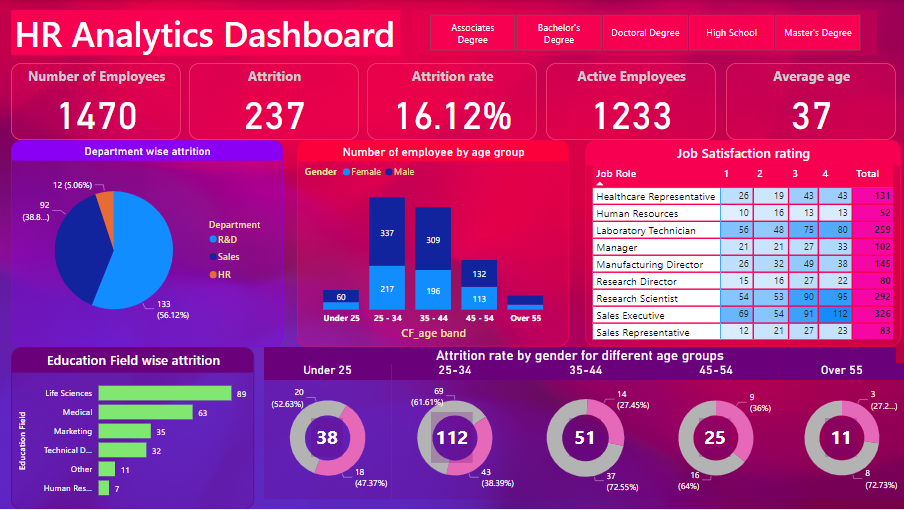

Layout of this report page (visuals, bound fields, positions):
{"tool":"powerbi","page":{"name":"Page 1","canvas":[1280,720],"ordinal":0},"visuals":[{"type":"card","title":"Number of Employees","fields":{"Values":["Sum(HR data.Employee Count)"]},"box":[15.1,89,240.2,109.2],"z":0},{"type":"card","title":"Attrition","fields":{"Values":["Sum(HR data.Attrition count)"]},"box":[267.1,89,240.2,109.2],"z":1000},{"type":"card","title":"Attrition rate","fields":{"Values":["HR data.Attrition rate"]},"box":[519.1,89,240.2,109.2],"z":2000},{"type":"card","title":"Active Employees","fields":{"Values":["HR data.Active Employees"]},"box":[772.7,89,240.2,109.2],"z":3000},{"type":"card","title":"Average age","fields":{"Values":["Avg(HR data.Age)"]},"box":[1026.4,89,240.2,109.2],"z":4000},{"type":"pieChart","title":"Department wise attrition","fields":{"Category":["HR data.Department"],"Y":["Sum(HR data.Attrition count)"]},"box":[15.1,198.2,384.7,292.3],"z":5000},{"type":"columnChart","title":"Number of employee by age group","fields":{"Category":["HR data.CF_age band"],"Y":["Sum(HR data.Employee Count)"],"Series":["HR data.Gender"]},"box":[419.9,198.2,384.7,292.3],"z":6000},{"type":"pivotTable","title":"Job Satisfaction rating","fields":{"Rows":["HR data.Job Role"],"Columns":["HR data.Job Satisfaction"],"Values":["Sum(HR data.Employee Count)"]},"box":[828.1,198.2,446.8,292.3],"z":7000},{"type":"barChart","title":"Education Field wise attrition","fields":{"Category":["HR data.Education Field"],"Y":["Sum(HR data.Attrition count)"]},"box":[15.1,490.5,344.4,230.1],"z":7001},{"type":"donutChart","title":"Under 25","fields":{"Category":["HR data.Gender"],"Y":["Sum(HR data.Attrition count)"],"Series":["HR data.CF_age band"]},"box":[372.9,514,179.7,193.2],"z":7002},{"type":"textbox","title":"Attrition rate by gender for different age groups","box":[372.9,490.5,893.6,23.5],"z":7003},{"type":"donutChart","title":"25-34","fields":{"Category":["HR data.Gender"],"Y":["Sum(HR data.Attrition count)"],"Series":["HR data.CF_age band"]},"box":[554.3,514,178.1,193.2],"z":7005},{"type":"donutChart","title":"35-44","fields":{"Category":["HR data.Gender"],"Y":["Sum(HR data.Attrition count)"],"Series":["HR data.CF_age band"]},"box":[732.4,514,191.5,193.2],"z":7006},{"type":"donutChart","title":"45-54","fields":{"Category":["HR data.Gender"],"Y":["Sum(HR data.Attrition count)"],"Series":["HR data.CF_age band"]},"box":[923.9,514,178.1,193.2],"z":7007},{"type":"donutChart","title":"Over 55","fields":{"Category":["HR data.Gender"],"Y":["Sum(HR data.Attrition count)"],"Series":["HR data.CF_age band"]},"box":[1101.9,514,178.1,193.2],"z":7008},{"type":"card","fields":{"Values":["Sum(HR data.Attrition count)"]},"box":[440.1,591.3,45.4,55.4],"z":7009},{"type":"card","fields":{"Values":["Sum(HR data.Attrition count)"]},"box":[1167.5,591.3,45.4,55.4],"z":7010},{"type":"card","fields":{"Values":["Sum(HR data.Attrition count)"]},"box":[989.4,591.3,45.4,55.4],"z":7011},{"type":"card","fields":{"Values":["Sum(HR data.Attrition count)"]},"box":[804.6,591.3,45.4,55.4],"z":7012},{"type":"card","fields":{"Values":["Sum(HR data.Attrition count)"]},"box":[609.8,582.9,58.8,72.2],"z":7013},{"type":"textbox","title":"HR Analytics Dashboard","box":[15.1,13.4,551,63.8],"z":7014},{"type":"slicer","fields":{"Values":["HR data.Education"]},"box":[582.9,13.4,658.5,63.8],"z":7015}]}

Visuals, with their boxes in screenshot pixels (x1, y1, x2, y2), scaled from the page's 1280x720 canvas onto the 904x510 screenshot:
"Number of Employees" card: [x1=11, y1=63, x2=180, y2=140]
"Attrition" card: [x1=189, y1=63, x2=358, y2=140]
"Attrition rate" card: [x1=367, y1=63, x2=536, y2=140]
"Active Employees" card: [x1=546, y1=63, x2=715, y2=140]
"Average age" card: [x1=725, y1=63, x2=895, y2=140]
"Department wise attrition" pieChart: [x1=11, y1=140, x2=282, y2=347]
"Number of employee by age group" columnChart: [x1=297, y1=140, x2=568, y2=347]
"Job Satisfaction rating" pivotTable: [x1=585, y1=140, x2=900, y2=347]
"Education Field wise attrition" barChart: [x1=11, y1=347, x2=254, y2=509]
"Under 25" donutChart: [x1=263, y1=364, x2=390, y2=501]
"Attrition rate by gender for different age groups" textbox: [x1=263, y1=347, x2=894, y2=364]
"25-34" donutChart: [x1=391, y1=364, x2=517, y2=501]
"35-44" donutChart: [x1=517, y1=364, x2=653, y2=501]
"45-54" donutChart: [x1=653, y1=364, x2=778, y2=501]
"Over 55" donutChart: [x1=778, y1=364, x2=903, y2=501]
card - Sum(HR data.Attrition count): [x1=311, y1=419, x2=343, y2=458]
card - Sum(HR data.Attrition count): [x1=825, y1=419, x2=857, y2=458]
card - Sum(HR data.Attrition count): [x1=699, y1=419, x2=731, y2=458]
card - Sum(HR data.Attrition count): [x1=568, y1=419, x2=600, y2=458]
card - Sum(HR data.Attrition count): [x1=431, y1=413, x2=472, y2=464]
"HR Analytics Dashboard" textbox: [x1=11, y1=9, x2=400, y2=55]
slicer - HR data.Education: [x1=412, y1=9, x2=877, y2=55]
